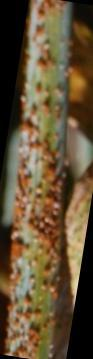Wheat: (13, 179, 57, 359)
